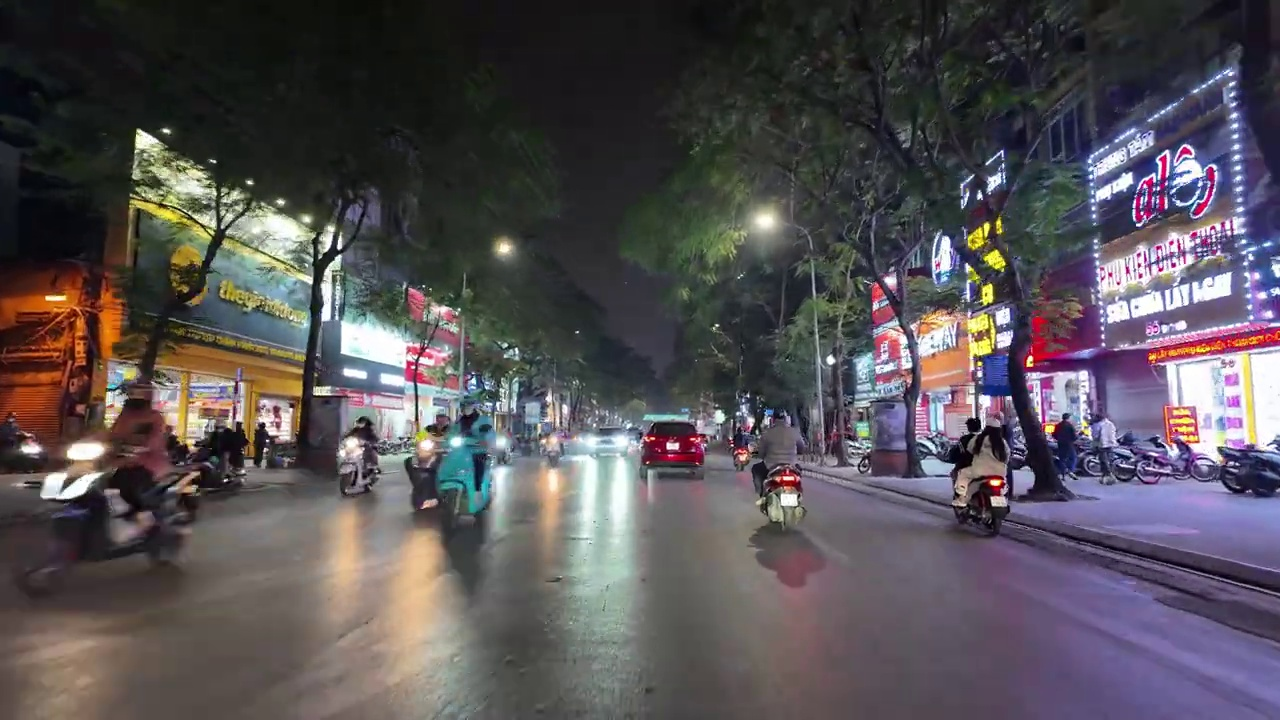acesa: (749, 205, 782, 237), (491, 235, 518, 262)
